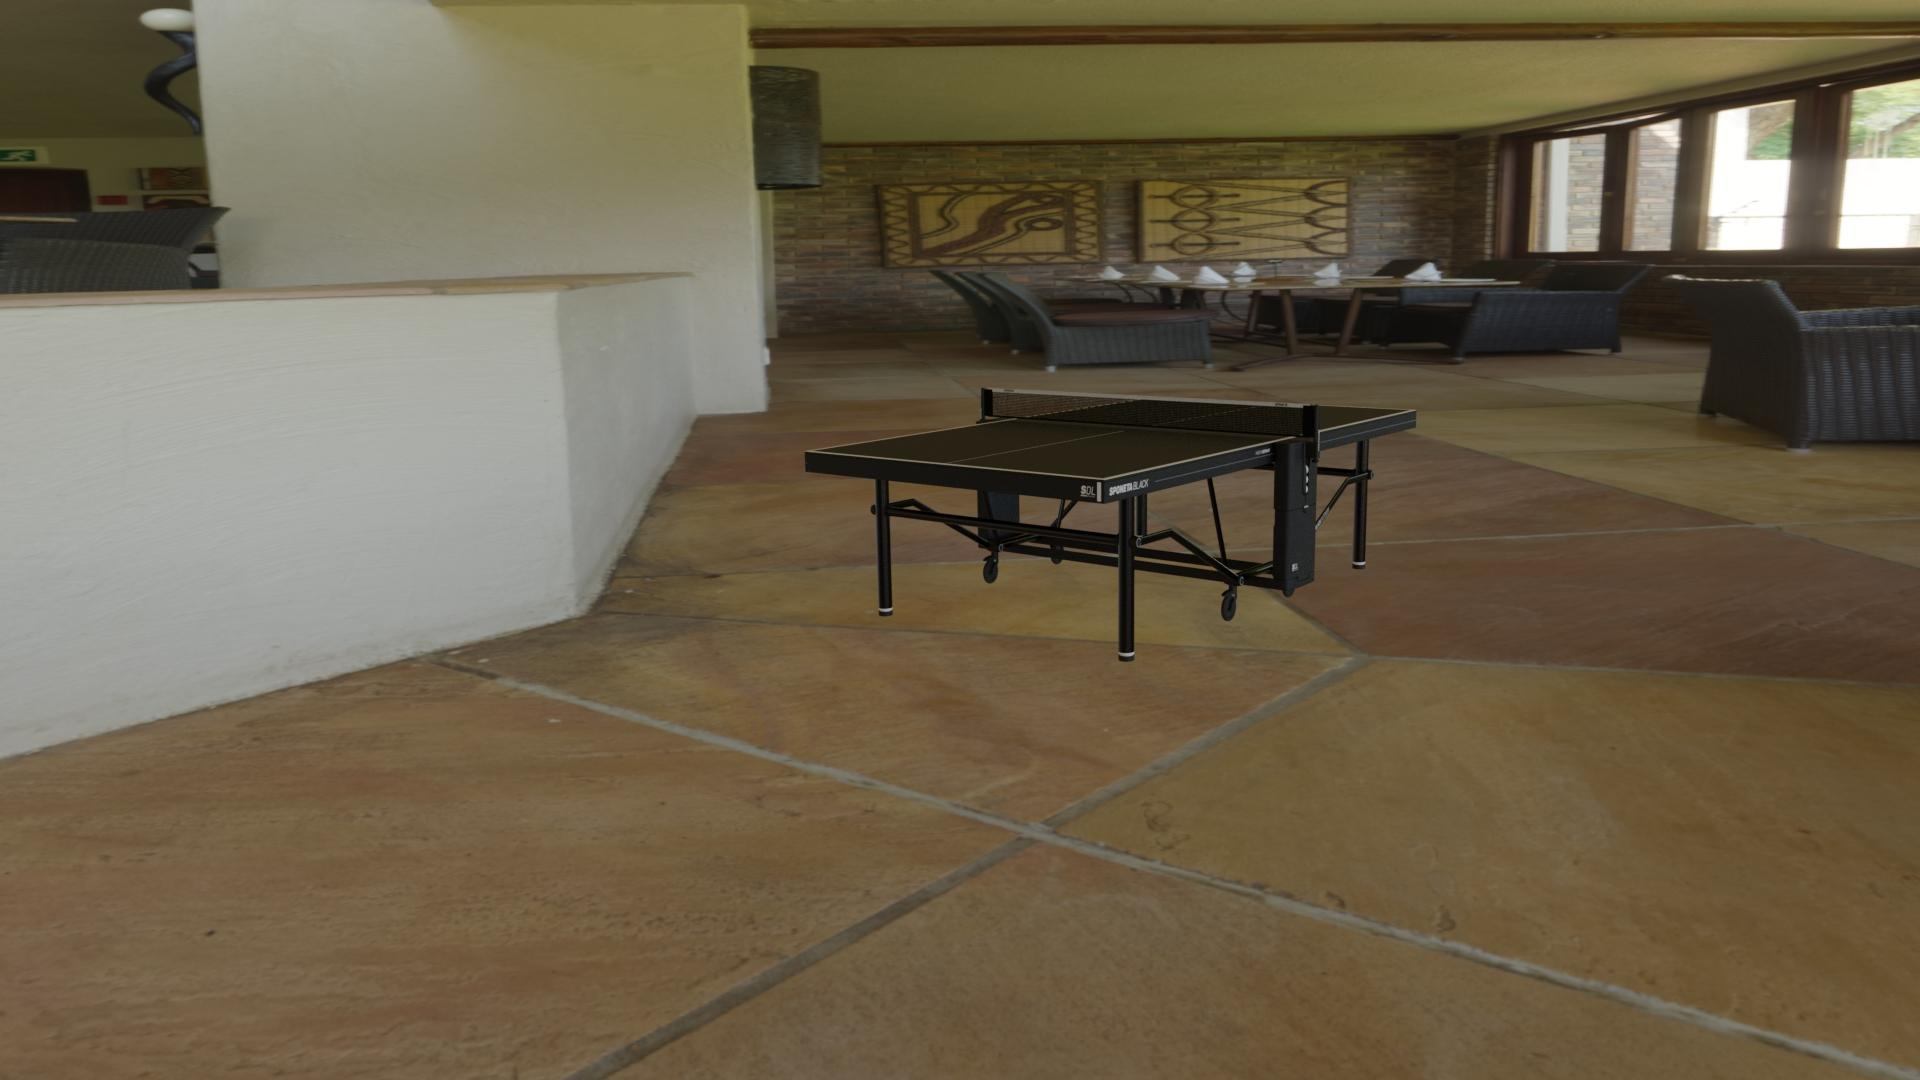table: (811, 397, 1411, 479)
